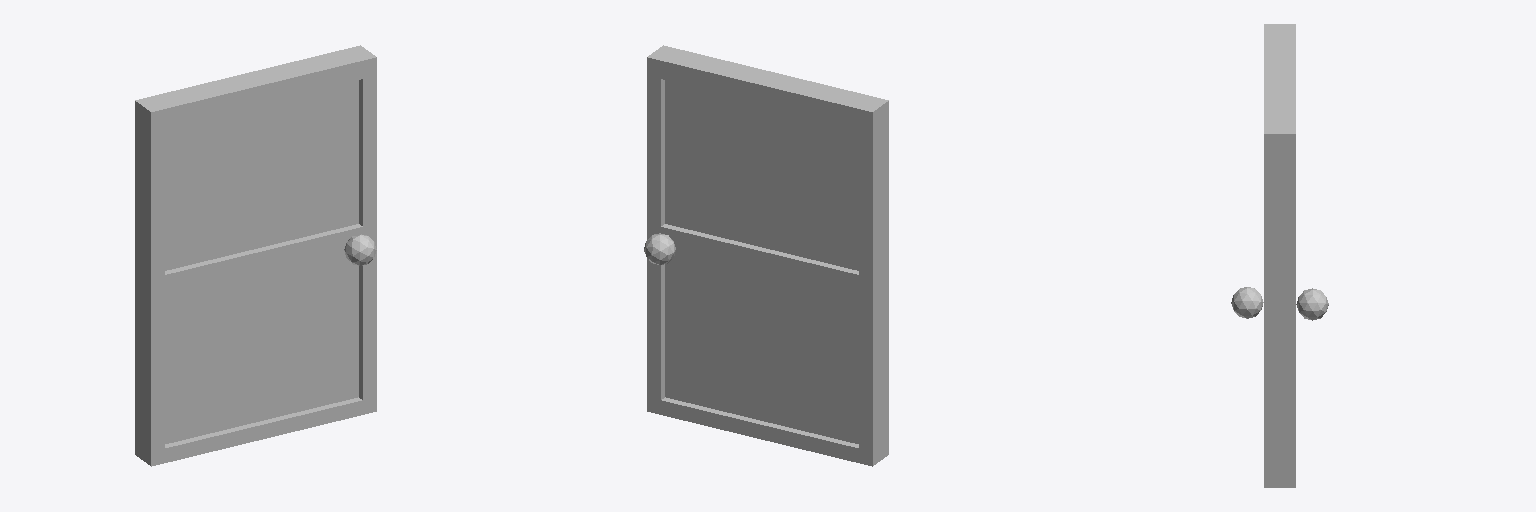
The model's file is CSGDoor2x3.obj.
The picture shows the model from 3 angles: view 1: azimuth 30°, elevation 25°; view 2: azimuth 150°, elevation 25°; view 3: azimuth 270°, elevation 25°; orthographic projection.
Visible parts, largest first — view 1: Mesh1, Mesh2; view 2: Mesh1, Mesh2; view 3: Mesh1, Mesh2.
Part boxes in pixels (x1,y1,x2,y2): Mesh1: (135, 45, 376, 466); Mesh2: (344, 234, 376, 265); Mesh1: (647, 45, 888, 466); Mesh2: (644, 233, 675, 264); Mesh1: (1264, 24, 1295, 487); Mesh2: (1231, 287, 1328, 320).
Size of the model in its own units: 2 by 3 by 0.75.